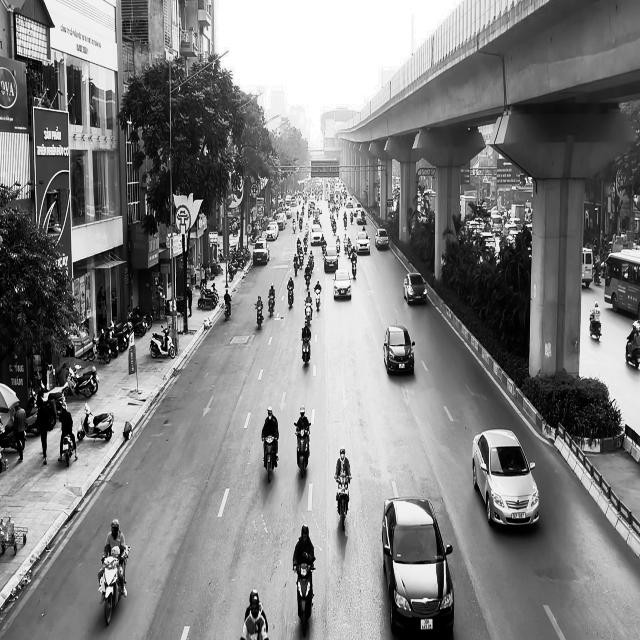bus: (604, 248, 640, 318)
car: (382, 496, 454, 634), (472, 428, 539, 528), (383, 324, 415, 374), (403, 272, 427, 304), (332, 268, 352, 300), (323, 247, 338, 273), (356, 231, 370, 254), (374, 227, 388, 249)
motorbike: (98, 545, 130, 625), (292, 554, 316, 635), (77, 402, 114, 441), (334, 474, 351, 531), (293, 421, 310, 478), (150, 324, 176, 359), (262, 435, 278, 482), (60, 431, 75, 466), (301, 331, 311, 366), (589, 312, 601, 340), (254, 303, 264, 329), (304, 300, 313, 325), (286, 286, 294, 308), (267, 294, 275, 316), (314, 287, 321, 310), (350, 256, 357, 278), (224, 300, 231, 320)
